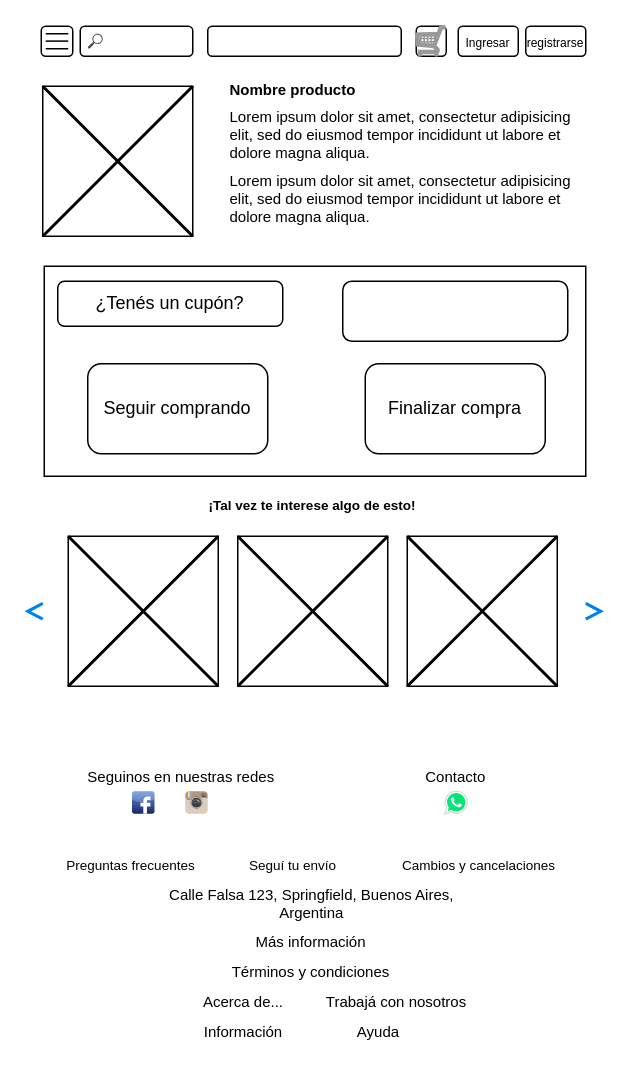
The diagram is 627 pixels wide and 1073 high, and some of its shapes have lost their labels. Each missing label, with the box of its shape:
Logo: (206, 25, 401, 56)
Subtotal: Total:: (341, 280, 568, 341)
